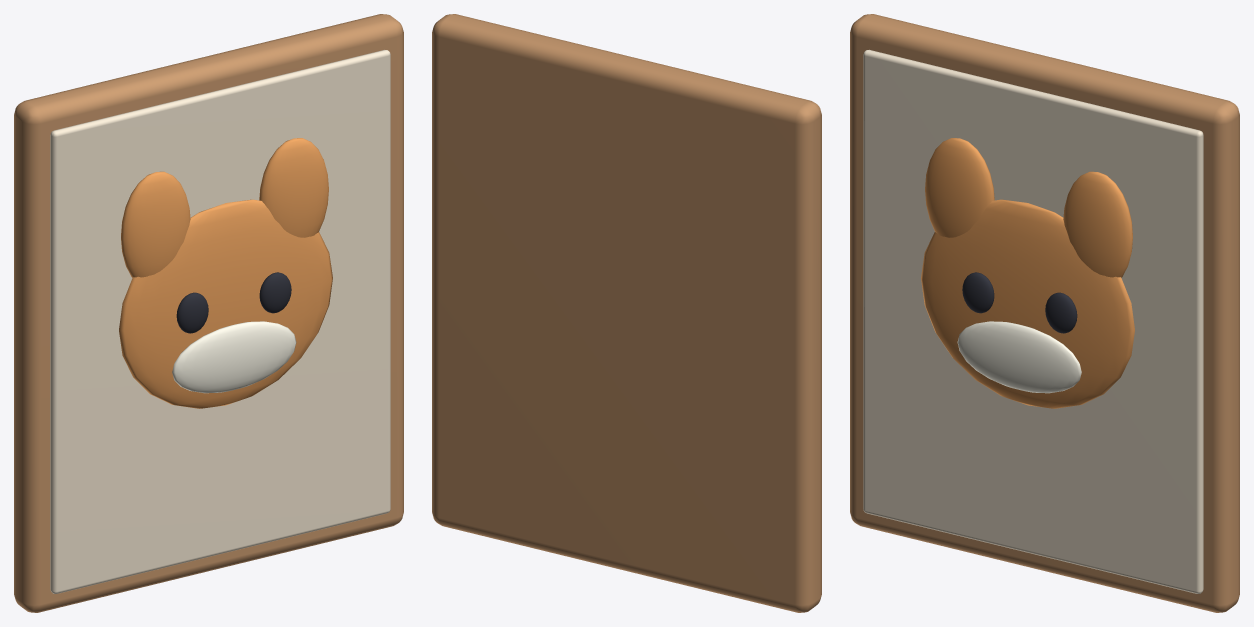
Rendered from portraitCat.glb.
3 views of the same model, side by side, from view 1: azimuth 30°, elevation 25°; view 2: azimuth 150°, elevation 25°; view 3: azimuth 330°, elevation 25° (orthographic).
Parts seen in each view (by area): view 1: Paper, Frame, Cat portrait head, Portrait muzzle, Portrait ear, Portrait ear.001, Portrait eye, Portrait eye.001; view 2: Frame; view 3: Paper, Frame, Cat portrait head, Portrait muzzle, Portrait ear.001, Portrait ear, Portrait eye.001, Portrait eye.
Part boxes in pixels (box(x1,y1,x2,y2)): Paper: box(50, 49, 390, 593); Frame: box(14, 14, 403, 612); Cat portrait head: box(119, 199, 332, 408); Portrait muzzle: box(172, 321, 296, 393); Portrait ear: box(121, 171, 190, 277); Portrait ear.001: box(259, 138, 328, 237); Portrait eye: box(176, 292, 208, 333); Portrait eye.001: box(259, 272, 291, 313); Frame: box(432, 14, 821, 612); Paper: box(863, 49, 1203, 593); Frame: box(850, 14, 1239, 612); Cat portrait head: box(921, 199, 1134, 408); Portrait muzzle: box(957, 321, 1081, 393); Portrait ear.001: box(1063, 171, 1132, 277); Portrait ear: box(925, 138, 994, 237); Portrait eye.001: box(1045, 292, 1077, 333); Portrait eye: box(962, 272, 994, 313).
Size of the model in its own units: 1.1 by 1.4 by 0.202.
